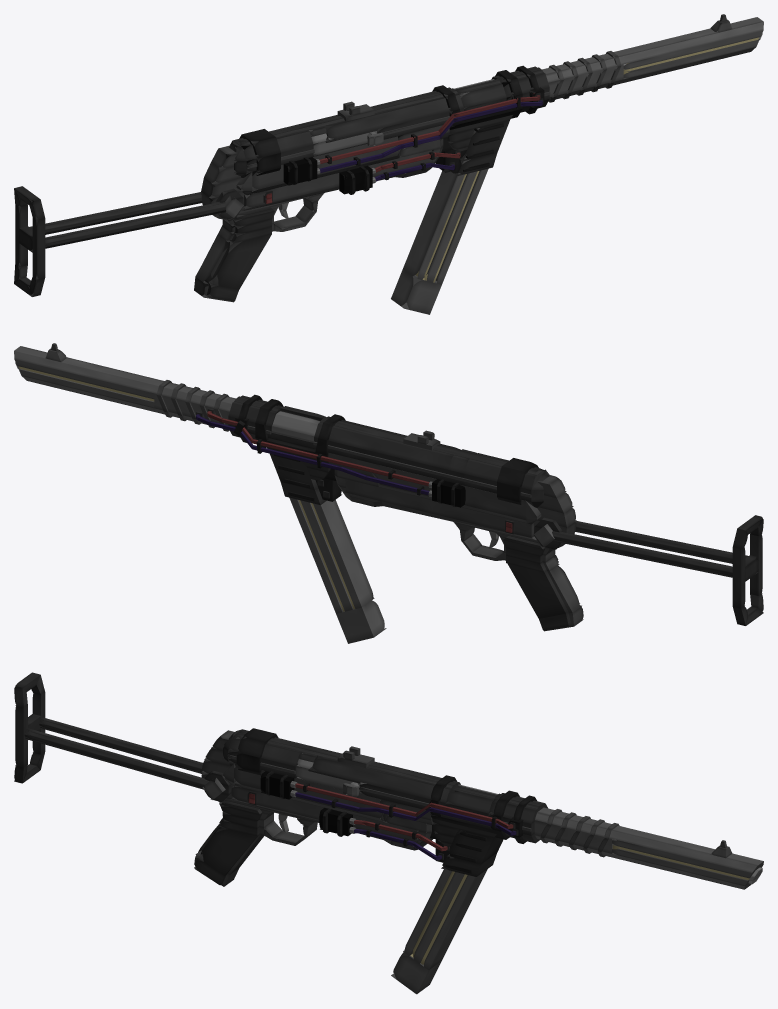
File: mpi40.obj
3 renders of one model, top to bottom at view 1: azimuth 30°, elevation 25°; view 2: azimuth 150°, elevation 25°; view 3: azimuth 330°, elevation 25°, orthographic.
Parts seen in each view (by area): view 1: defaultBarrelModel2, ammoModel0, gunModel6, gunModel45, gunModel86, ammoModel3, gunModel14, gunModel104, gunModel41, gunModel107, ammoModel1, ammoModel2 (+20 smaller); view 2: defaultBarrelModel2, gunModel45, ammoModel0, gunModel6, gunModel86, gunModel14, ammoModel3, gunModel107, gunModel104, ammoModel1, gunModel41, ammoModel2 (+21 smaller); view 3: defaultBarrelModel2, gunModel6, gunModel45, ammoModel2, gunModel86, gunModel14, gunModel104, gunModel107, gunModel41, ammoModel3, gunModel0, ammoModel1 (+18 smaller).
Boxes of the visible parts, x1,y1,x2,y2 form: defaultBarrelModel2: (542,17,763,82); ammoModel0: (403,128,479,279); gunModel6: (316,87,463,140); gunModel45: (244,148,432,208); gunModel86: (203,233,271,289); ammoModel3: (391,269,441,314); gunModel14: (252,136,397,190); gunModel104: (45,202,225,243); gunModel41: (234,88,457,146); gunModel107: (29,192,201,229); ammoModel1: (423,171,477,282); ammoModel2: (434,168,488,284); defaultBarrelModel2: (14,346,235,411); gunModel45: (345,479,533,537); ammoModel0: (313,500,374,608); gunModel6: (314,416,460,469); gunModel86: (507,563,579,618); gunModel14: (380,465,525,519); ammoModel3: (336,600,386,643); gunModel107: (552,531,732,572); gunModel104: (575,521,748,558); ammoModel1: (300,500,353,611); gunModel41: (320,417,543,475); ammoModel2: (289,497,343,613); defaultBarrelModel2: (535,807,763,872); gunModel6: (311,749,460,802); gunModel45: (231,785,418,843); ammoModel2: (422,869,487,970); gunModel86: (197,827,258,875); gunModel14: (234,766,380,818); gunModel104: (25,728,209,785); gunModel107: (39,717,202,769); gunModel41: (234,730,457,788); ammoModel3: (391,952,441,994); gunModel0: (447,829,503,864); ammoModel1: (413,872,464,963).
Bounding box in the file's own units: 25.8 × 7.42 × 1.85.
